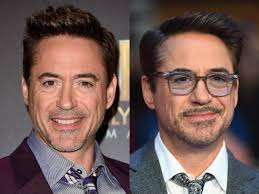Glasses: (146, 66, 245, 100)
No-Glasses: (31, 67, 99, 95)
